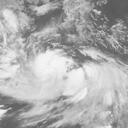cyclone: (34, 52, 65, 81)
